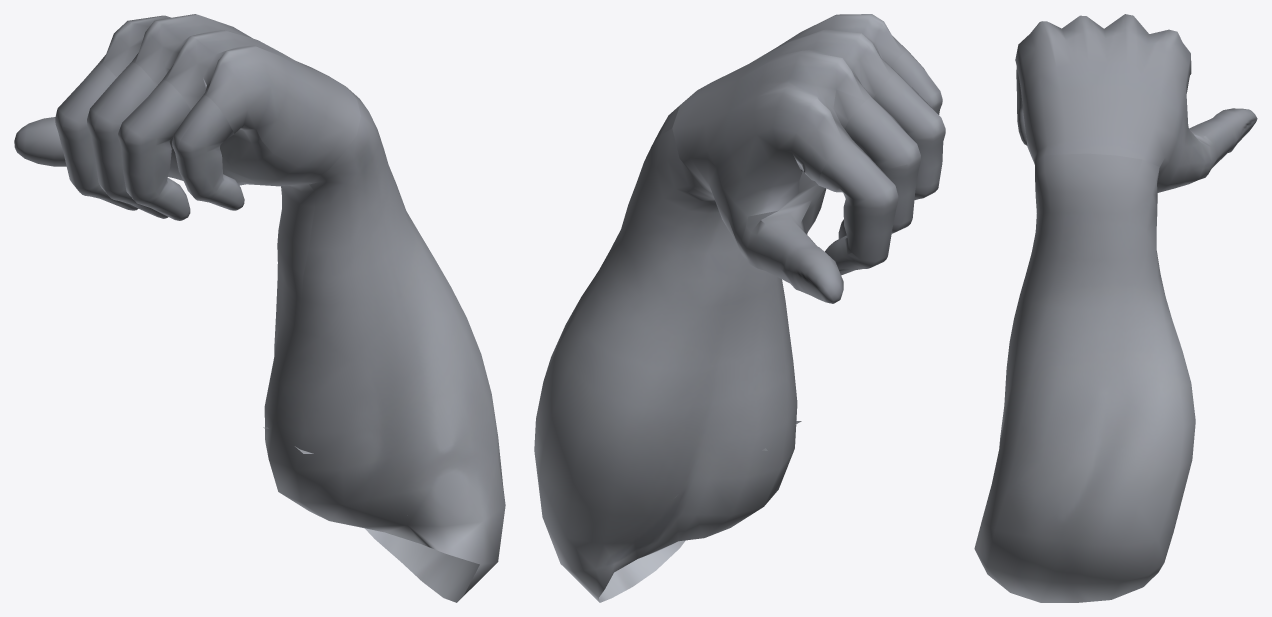
Rendered from Bote_AntebrazoIzq.obj.
The picture shows the model from 3 angles, left to right: view 1: azimuth 30°, elevation 25°; view 2: azimuth 150°, elevation 25°; view 3: azimuth 270°, elevation 25°; orthographic projection. The views are drawn at different scales.
Visible parts, largest first — view 1: Object001; view 2: Object001; view 3: Object001.
Part boxes in pixels (x1,y1,x2,y2): Object001: (14, 14, 505, 602); Object001: (534, 14, 945, 602); Object001: (974, 14, 1257, 602).
Size of the model in its own units: 0.9932 by 1.49 by 0.7696.
